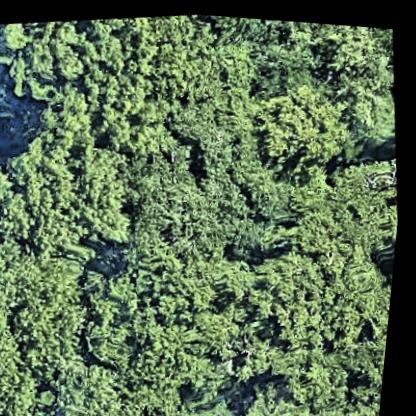tree-top: (87, 6, 215, 134), (261, 236, 399, 353), (0, 228, 98, 364), (243, 67, 365, 173), (0, 114, 96, 225), (121, 133, 216, 239), (0, 12, 102, 101), (128, 225, 216, 318), (135, 307, 216, 406), (225, 165, 311, 258), (189, 293, 281, 378), (69, 141, 144, 243), (314, 331, 392, 416), (51, 352, 146, 416), (226, 308, 291, 386), (79, 298, 147, 371), (0, 331, 56, 416), (342, 75, 403, 149), (244, 368, 338, 416), (308, 18, 381, 78), (251, 23, 311, 92), (77, 256, 140, 307), (367, 195, 403, 268), (163, 394, 247, 416), (212, 12, 270, 43), (0, 132, 18, 220), (0, 51, 11, 142)
